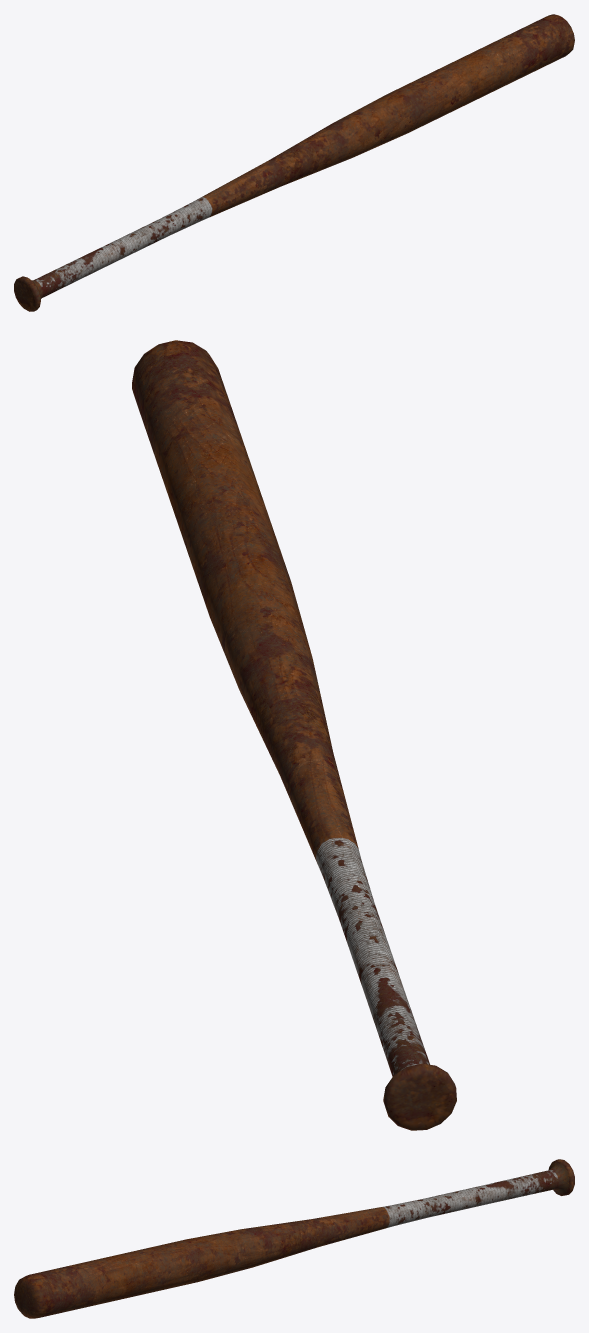
Rendered from Anim_idle_bate_objetos.0054.obj.
The picture shows the model from 3 angles, top to bottom: view 1: azimuth 90°, elevation 25°; view 2: azimuth 150°, elevation 25°; view 3: azimuth 270°, elevation 25°; orthographic projection. The views are drawn at different scales.
Visible parts, largest first — view 1: Bate1; view 2: Bate1; view 3: Bate1.
Boxes of the visible parts, x1,y1,x2,y2 form: Bate1: [14, 14, 574, 311]; Bate1: [132, 340, 456, 1130]; Bate1: [14, 1159, 574, 1318].
Bounding box in the file's own units: 3.62 × 0.8807 × 4.22.
